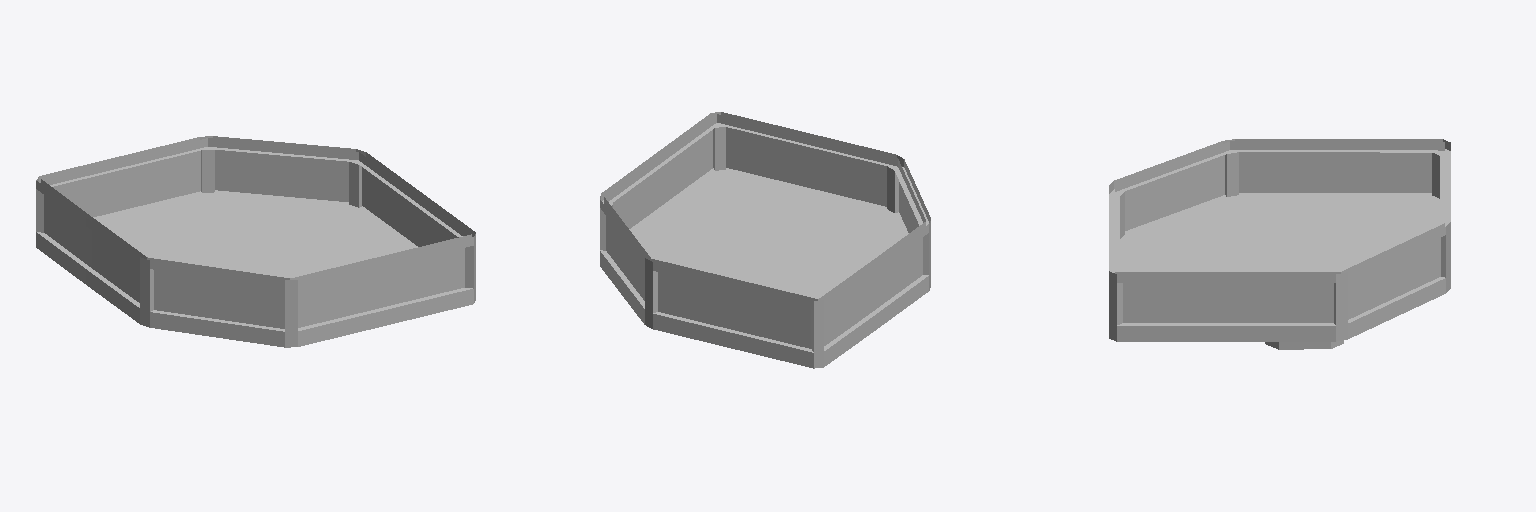
The model's file is building_large_01_top.obj.
3 views of the same model, side by side, from view 1: azimuth 30°, elevation 25°; view 2: azimuth 150°, elevation 25°; view 3: azimuth 270°, elevation 25° (orthographic).
Visible parts, largest first — view 1: Plane.001; view 2: Plane.001; view 3: Plane.001.
Part boxes in pixels (left/top/right/bottom): Plane.001: left=36, top=136, right=475, bottom=347; Plane.001: left=600, top=112, right=930, bottom=368; Plane.001: left=1109, top=139, right=1450, bottom=349.
Bounding box in the file's own units: 84.58 × 28.78 × 90.37.